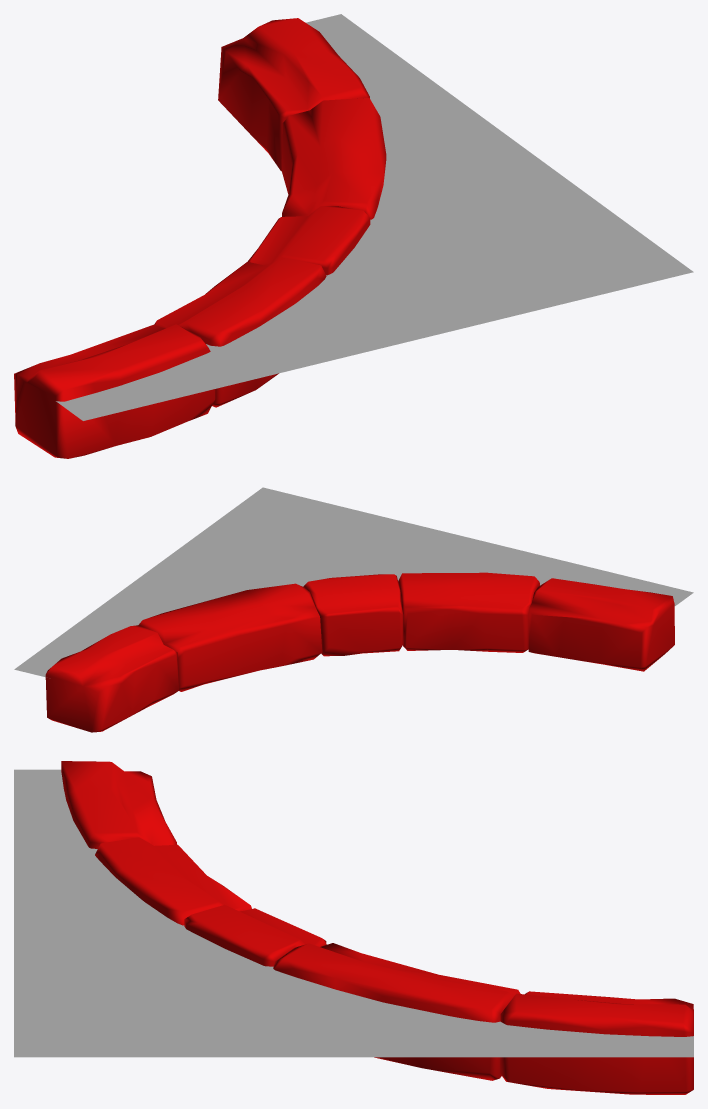
File: ARCH_centreStoneFloorHole2_DF_GEO.fbx
3 renders of one model, top to bottom at view 1: azimuth 30°, elevation 25°; view 2: azimuth 150°, elevation 25°; view 3: azimuth 270°, elevation 25°, orthographic. The views are drawn at different scales.
Visible parts, largest first — view 1: pCube2; view 2: pCube2; view 3: pCube2.
Part boxes in pixels (x1,y1,x2,y2): pCube2: (14, 14, 693, 458); pCube2: (14, 487, 693, 732); pCube2: (14, 761, 693, 1094).
Size of the model in its own units: 500 by 59.03 by 500.
